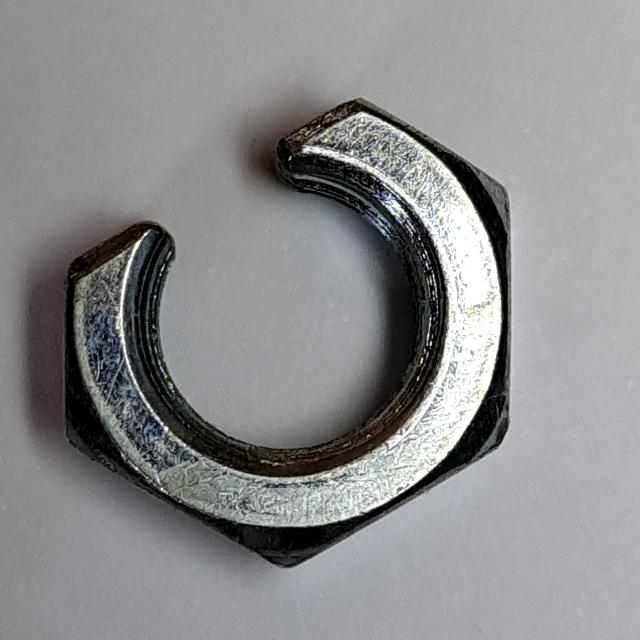Fracture: (55, 85, 528, 579)
